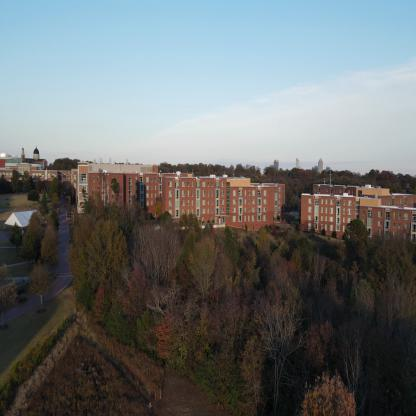Wolf Ridge: (75, 158, 288, 240), (295, 175, 415, 258)
